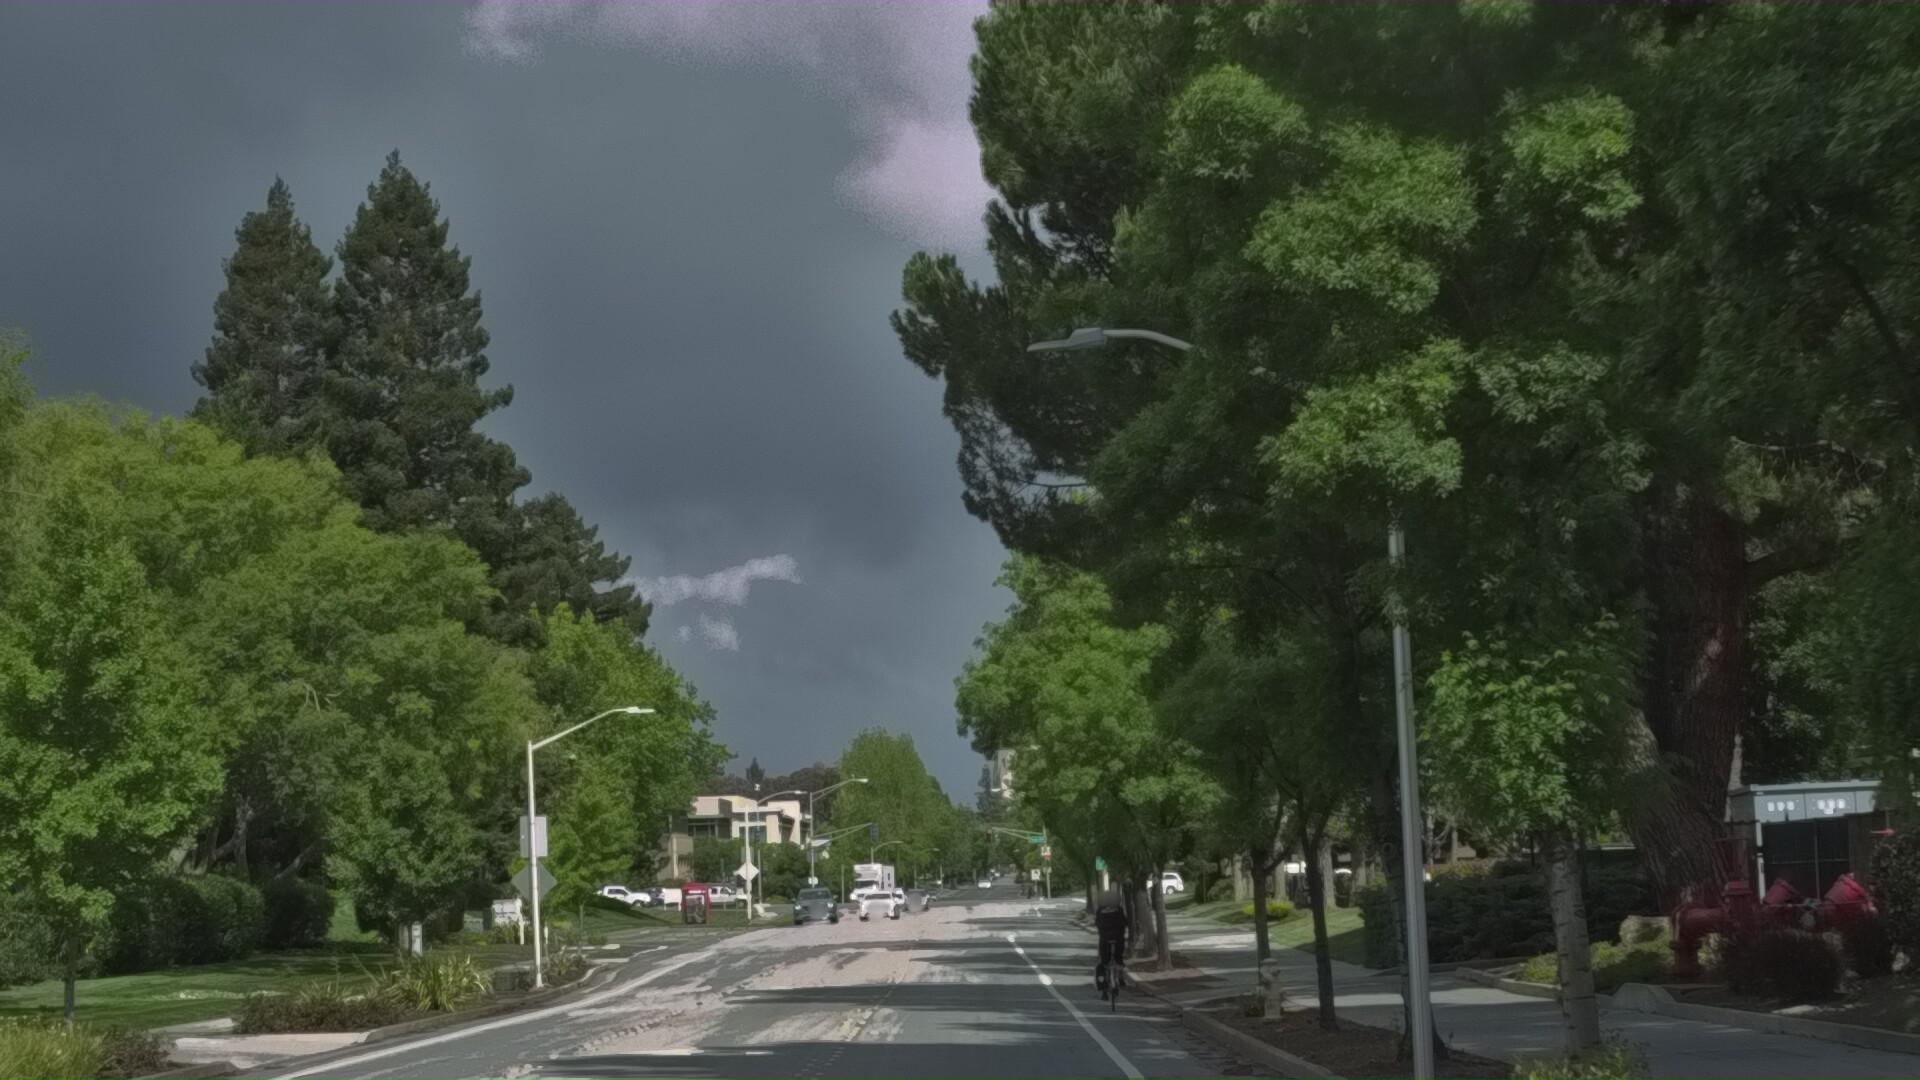bicycle: (1076, 971, 1150, 1080)
